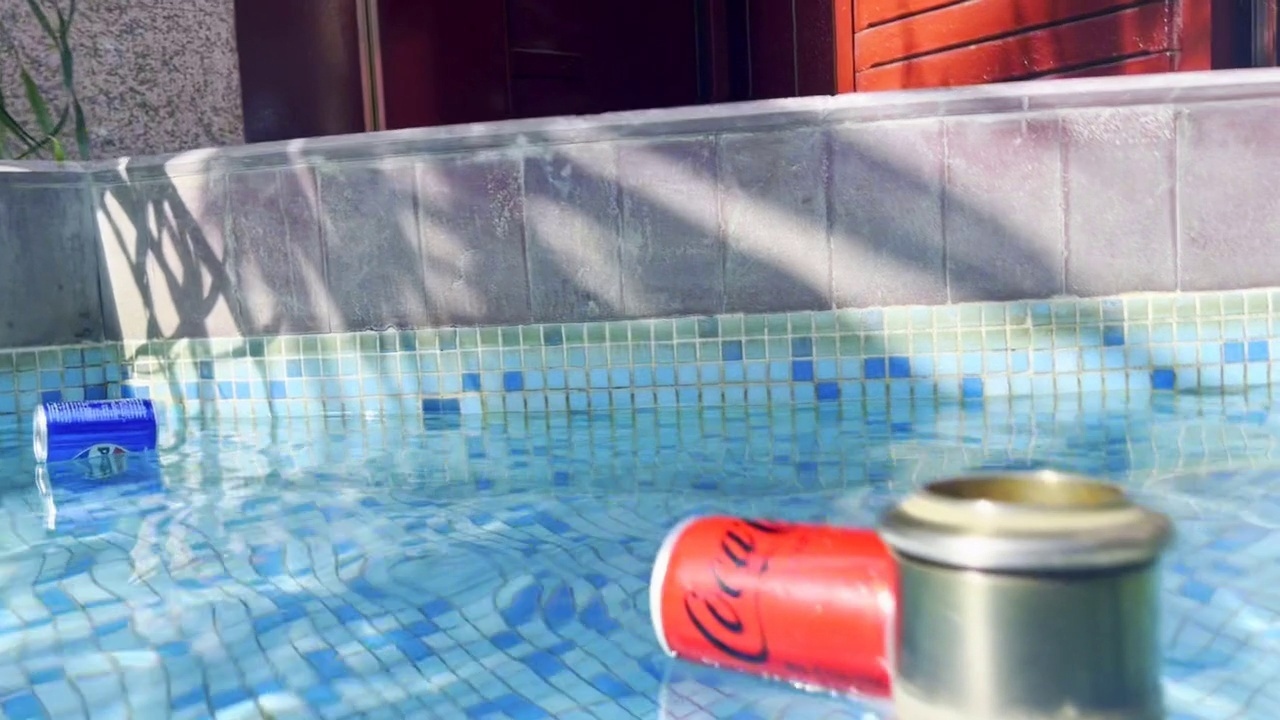debris: (638, 500, 943, 695), (22, 385, 155, 472)
